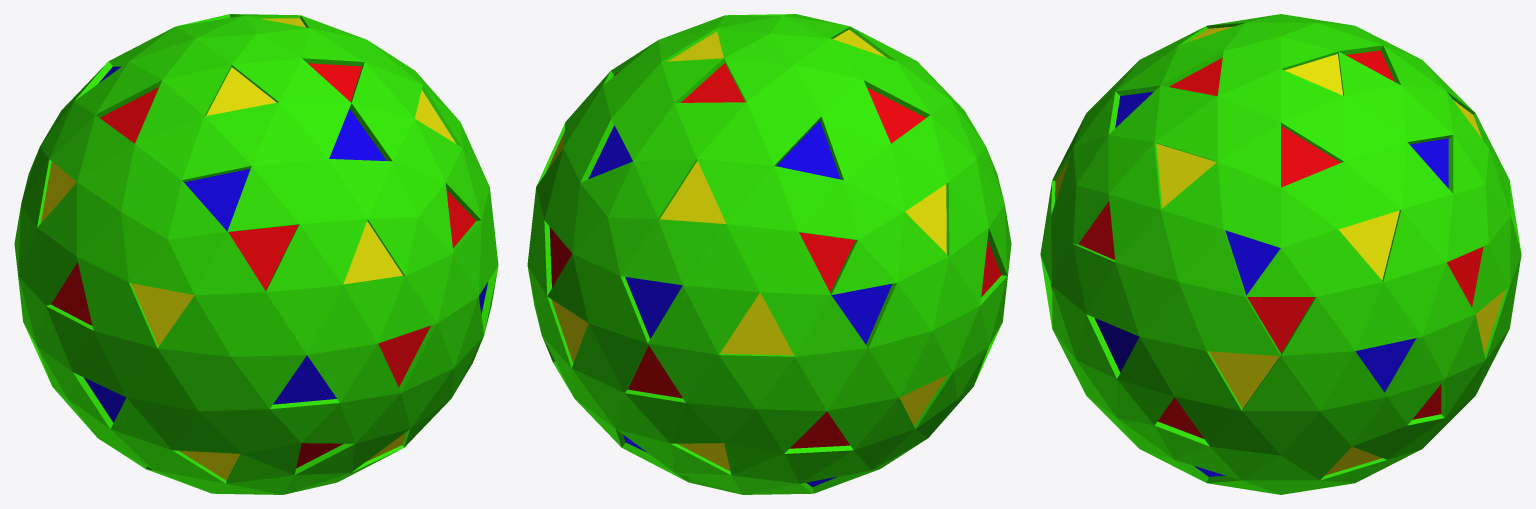
File: Ball_Green.fbx
The picture shows the model from 3 angles, left to right: view 1: azimuth 30°, elevation 25°; view 2: azimuth 150°, elevation 25°; view 3: azimuth 270°, elevation 25°; orthographic projection.
Parts seen in each view (by area): view 1: Ball; view 2: Ball; view 3: Ball.
Boxes of the visible parts, left/top/right/bottom form: Ball: left=14, top=14, right=498, bottom=494; Ball: left=527, top=14, right=1011, bottom=494; Ball: left=1040, top=14, right=1521, bottom=494.
Bounding box in the file's own units: 326 × 326 × 326.
